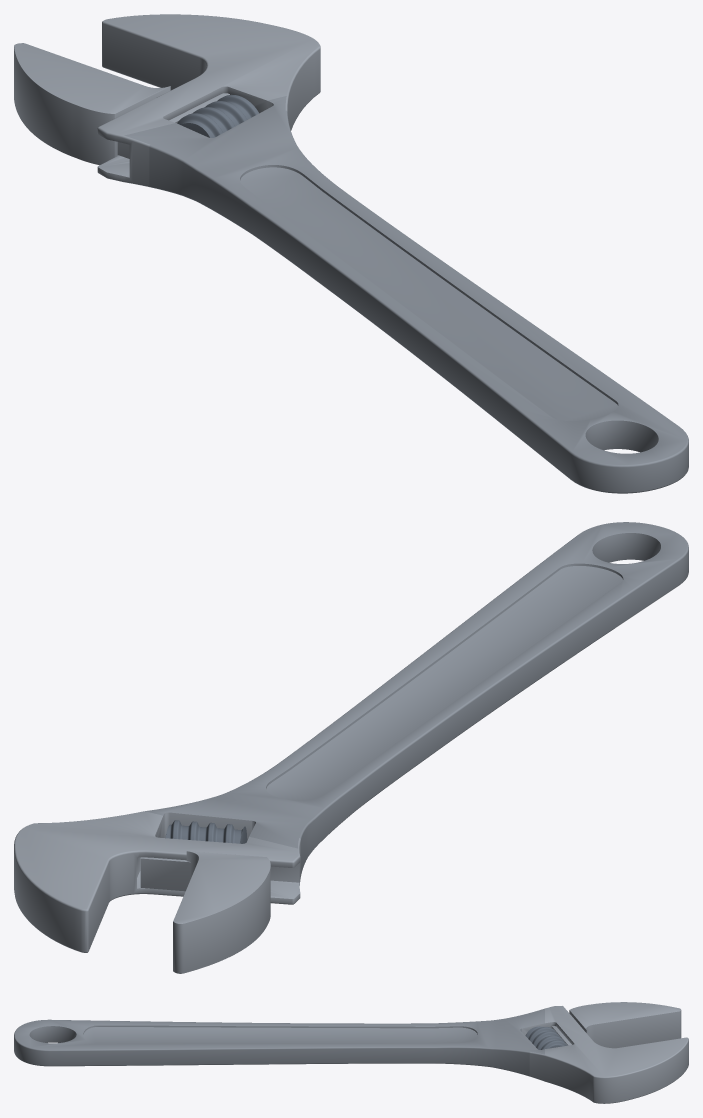
3 views of the same model, one above another, from view 1: azimuth 30°, elevation 25°; view 2: azimuth 150°, elevation 25°; view 3: azimuth 270°, elevation 25° (orthographic). The views are drawn at different scales.
Parts seen in each view (by area): view 1: part_003_fixed_body_and_jaw, part_004_fixed_body_and_jaw, part_001_movable_jaw_and_rack, part_000_worm_screw_and_thumbwheel; view 2: part_003_fixed_body_and_jaw, part_004_fixed_body_and_jaw, part_001_movable_jaw_and_rack, part_000_worm_screw_and_thumbwheel; view 3: part_003_fixed_body_and_jaw, part_004_fixed_body_and_jaw, part_001_movable_jaw_and_rack, part_000_worm_screw_and_thumbwheel.
Part boxes in pixels (box(x1,y1,x2,y2)): part_003_fixed_body_and_jaw: box(124, 96, 688, 493); part_004_fixed_body_and_jaw: box(97, 14, 320, 186); part_001_movable_jaw_and_rack: box(14, 43, 229, 165); part_000_worm_screw_and_thumbwheel: box(177, 94, 259, 137); part_003_fixed_body_and_jaw: box(146, 522, 688, 875); part_004_fixed_body_and_jaw: box(14, 807, 300, 952); part_001_movable_jaw_and_rack: box(140, 851, 270, 973); part_000_worm_screw_and_thumbwheel: box(165, 820, 247, 843); part_003_fixed_body_and_jaw: box(14, 1008, 544, 1076); part_004_fixed_body_and_jaw: box(522, 1006, 688, 1103); part_001_movable_jaw_and_rack: box(551, 1002, 681, 1048); part_000_worm_screw_and_thumbwheel: box(525, 1026, 567, 1049).
Size of the model in its own units: 0.0724 by 0.0144 by 0.282.
